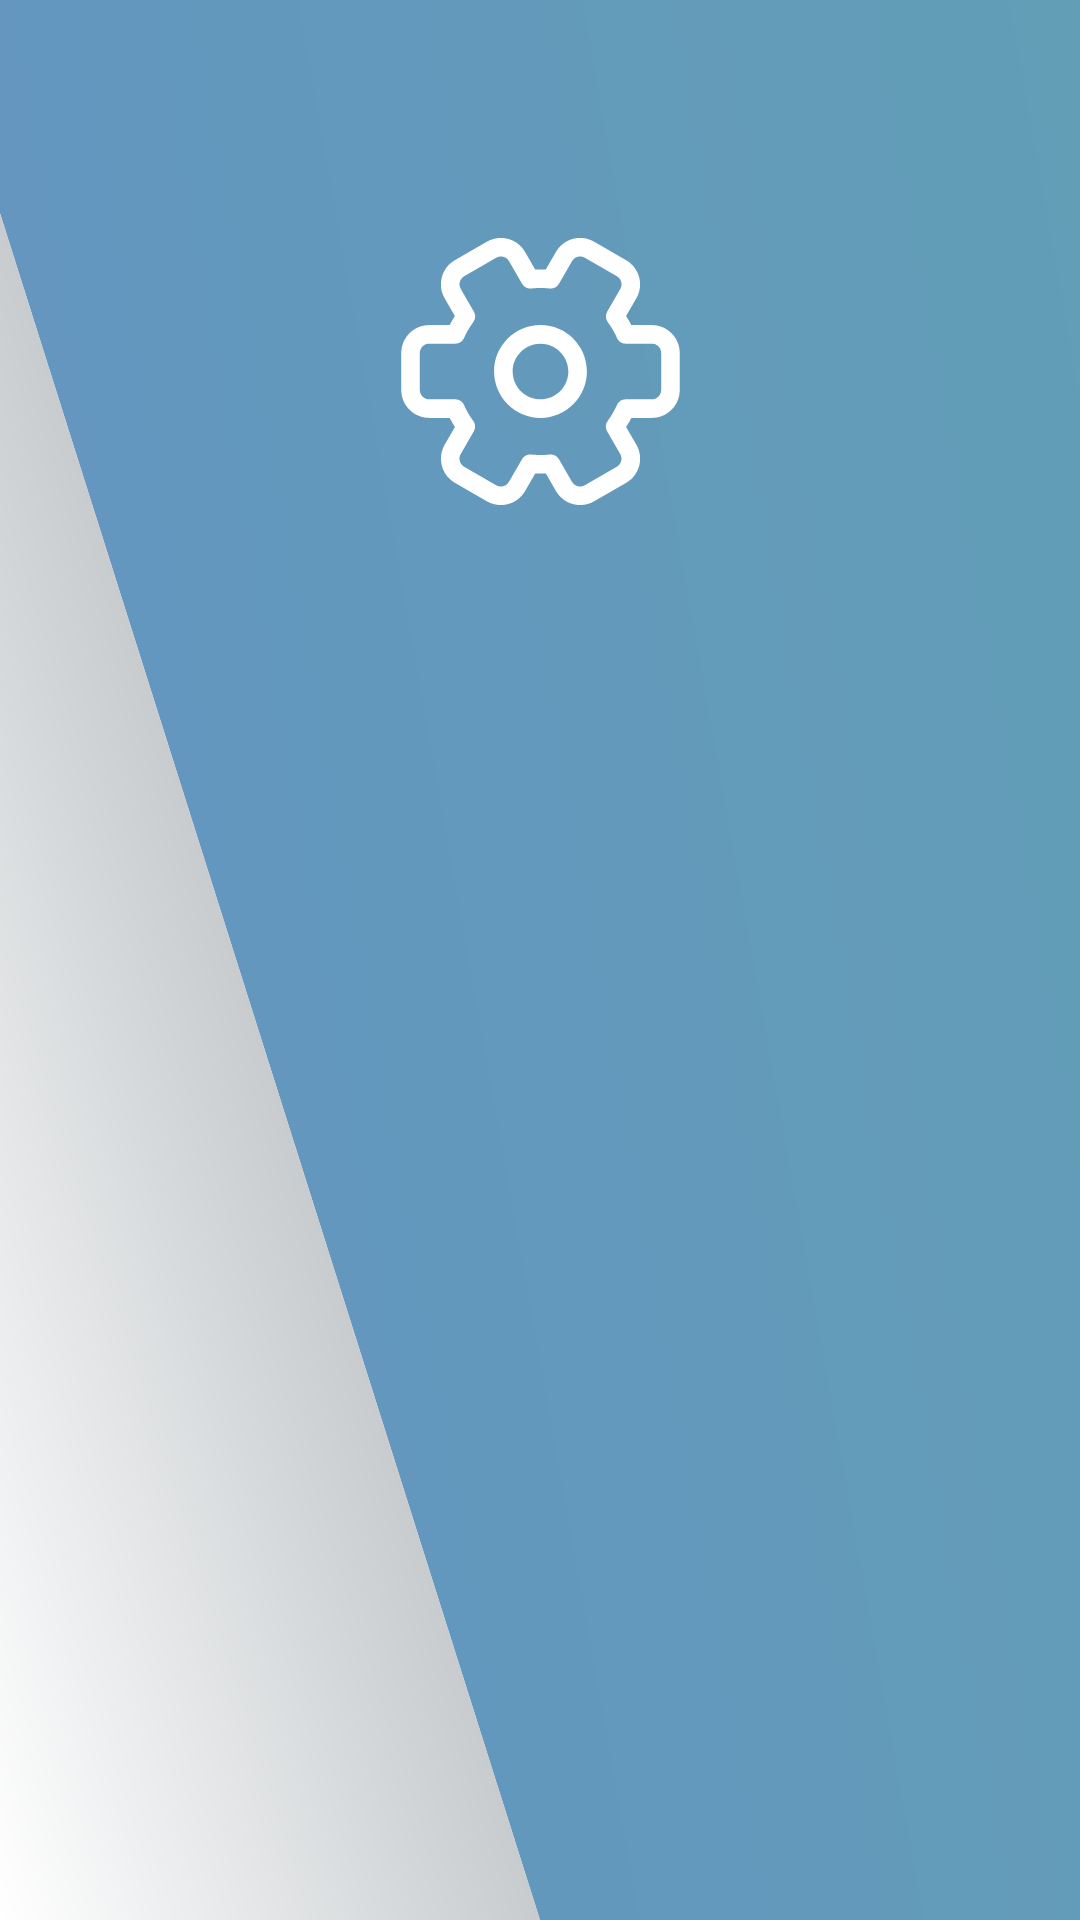

Where icons sit on this 1080*1920 app screen, as bbox(x1, y1, x2, y2):
setting: bbox(401, 238, 680, 505)
